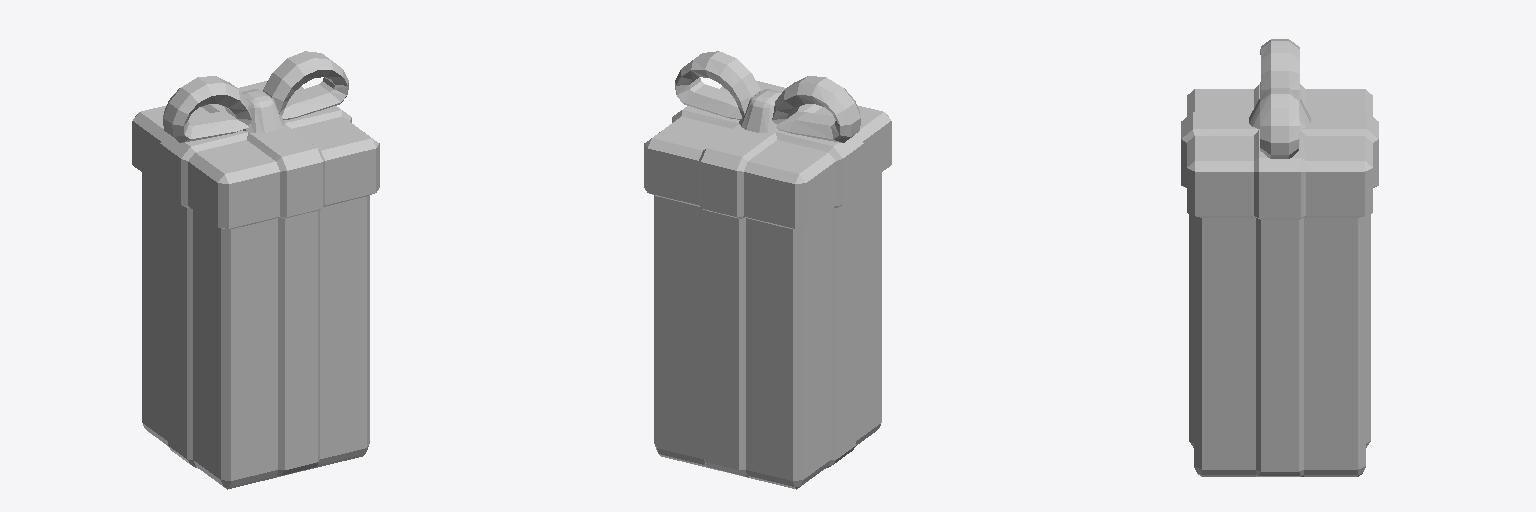
File: present_B_red.obj
The picture shows the model from 3 angles: view 1: azimuth 30°, elevation 25°; view 2: azimuth 150°, elevation 25°; view 3: azimuth 270°, elevation 25°; orthographic projection.
Visible parts, largest first — view 1: present_B_red; view 2: present_B_red; view 3: present_B_red.
Boxes of the visible parts, box(x1,y1,x2,y2) form: present_B_red: box(132, 51, 379, 489); present_B_red: box(644, 51, 891, 489); present_B_red: box(1181, 39, 1378, 476).
Size of the model in its own units: 0.5215 by 1.06 by 0.5038.